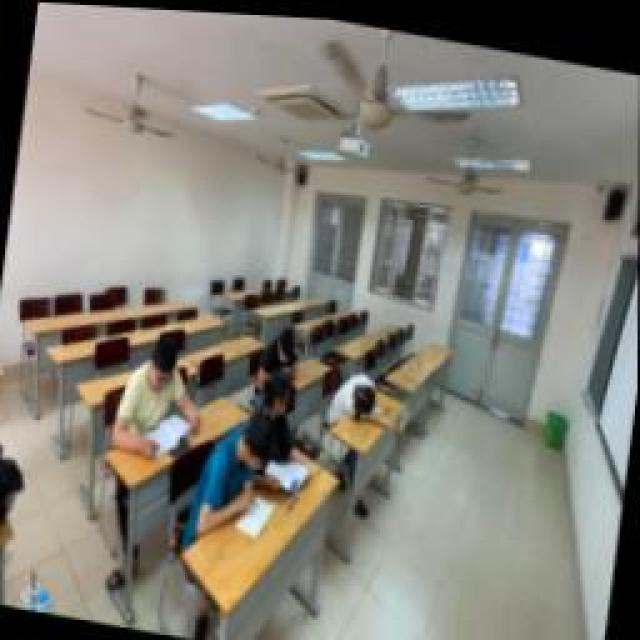sleep: (325, 362, 397, 430)
study: (107, 338, 205, 462), (192, 400, 282, 535), (245, 368, 320, 488), (255, 318, 300, 388)
